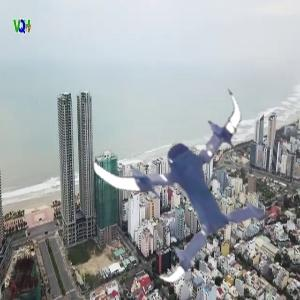drone: (97, 85, 280, 268)
